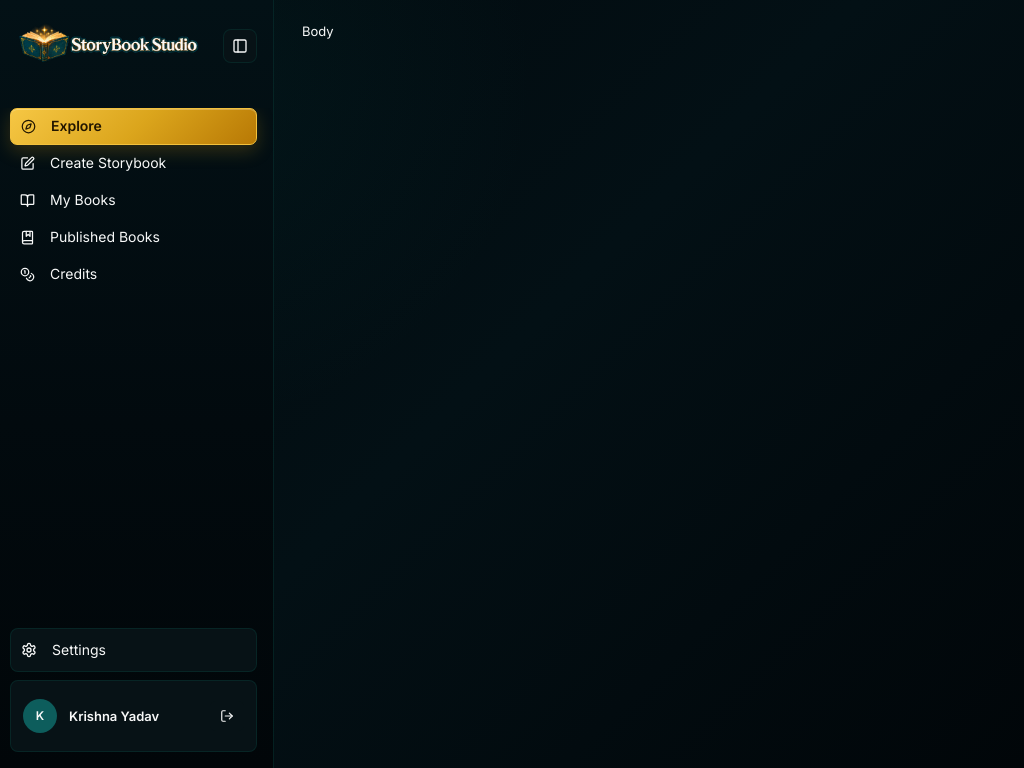
Test: Sidebar navigation (Shell B) › collapses the sidebar to icons and keeps every destination reachable
The image size is (1024, 768).
Click the button named "Collapse sidebar" at (240, 46), box x1=223 y1=29 x2=257 y2=63
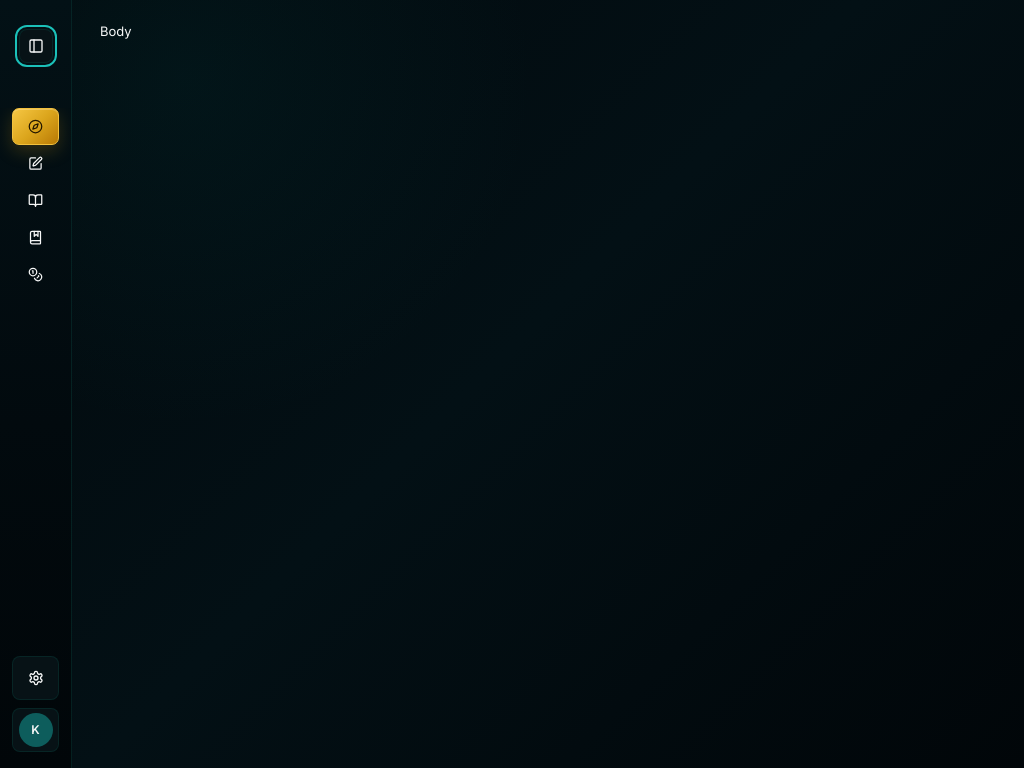
Expected: the link named "My Books" is shown, x1=28 y1=193 x2=43 y2=208
Now the button named "Expand sidebar" is shown, box x1=18 y1=29 x2=52 y2=63
Now the text "Krishna Yadav" is gone
